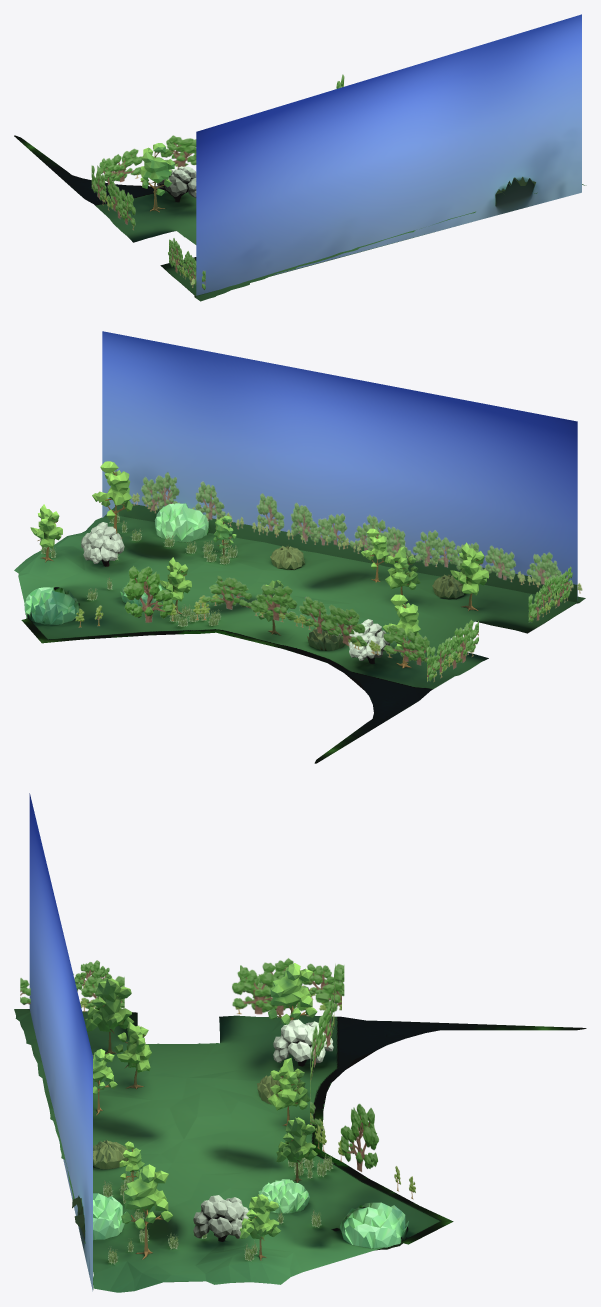
3 views of the same model, one above another, from view 1: azimuth 30°, elevation 25°; view 2: azimuth 150°, elevation 25°; view 3: azimuth 270°, elevation 25° (orthographic). The views are drawn at different scales.
Parts seen in each view (by area): view 1: scene4.land.baked; view 2: scene4.land.baked; view 3: scene4.land.baked.
Boxes of the visible parts, x1,y1,x2,y2 form: scene4.land.baked: [14, 14, 586, 301]; scene4.land.baked: [14, 331, 585, 763]; scene4.land.baked: [14, 793, 586, 1292].
Bounding box in the file's own units: 36.13 × 14.39 × 31.71.
5 materials, 5 textured.
